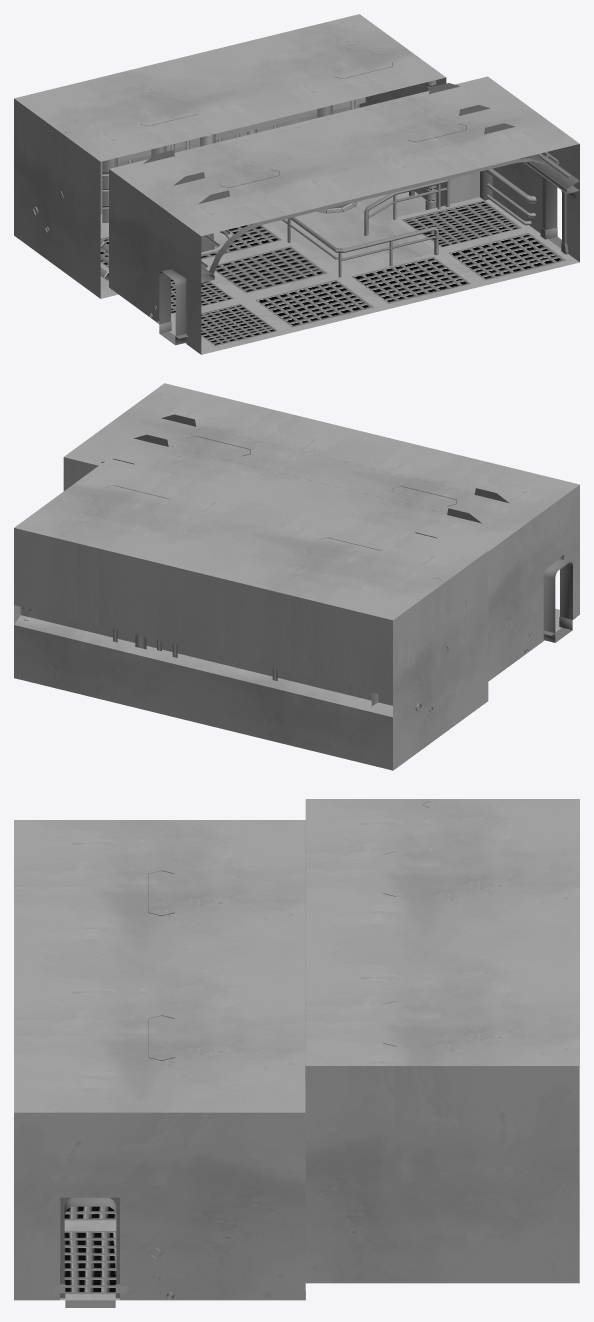
File: MSH_Fusion_reactor_room_L1_R2_optimized.fbx
3 renders of one model, top to bottom at view 1: azimuth 30°, elevation 25°; view 2: azimuth 150°, elevation 25°; view 3: azimuth 270°, elevation 25°, orthographic. The views are drawn at different scales.
Visible parts, largest first — view 1: lightmap1, lightmap-1; view 2: lightmap1, lightmap-1; view 3: lightmap1, lightmap-1.
Boxes of the visible parts, left/top/right/bottom form: lightmap1: left=14, top=14, right=579, bottom=354; lightmap-1: left=159, top=179, right=561, bottom=345; lightmap1: left=14, top=383, right=579, bottom=770; lightmap-1: left=543, top=559, right=572, bottom=642; lightmap1: left=14, top=799, right=579, bottom=1300; lightmap-1: left=64, top=1197, right=116, bottom=1307.
Bounding box in the file's own units: 20.61 × 6.86 × 16.03.
